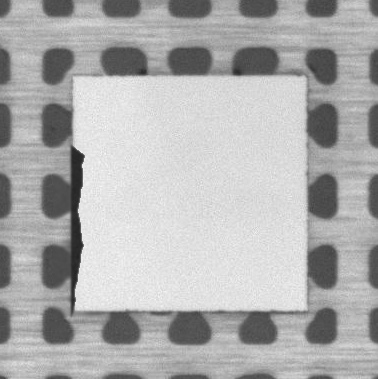DIE_BROKEN: (68, 145, 87, 316)
